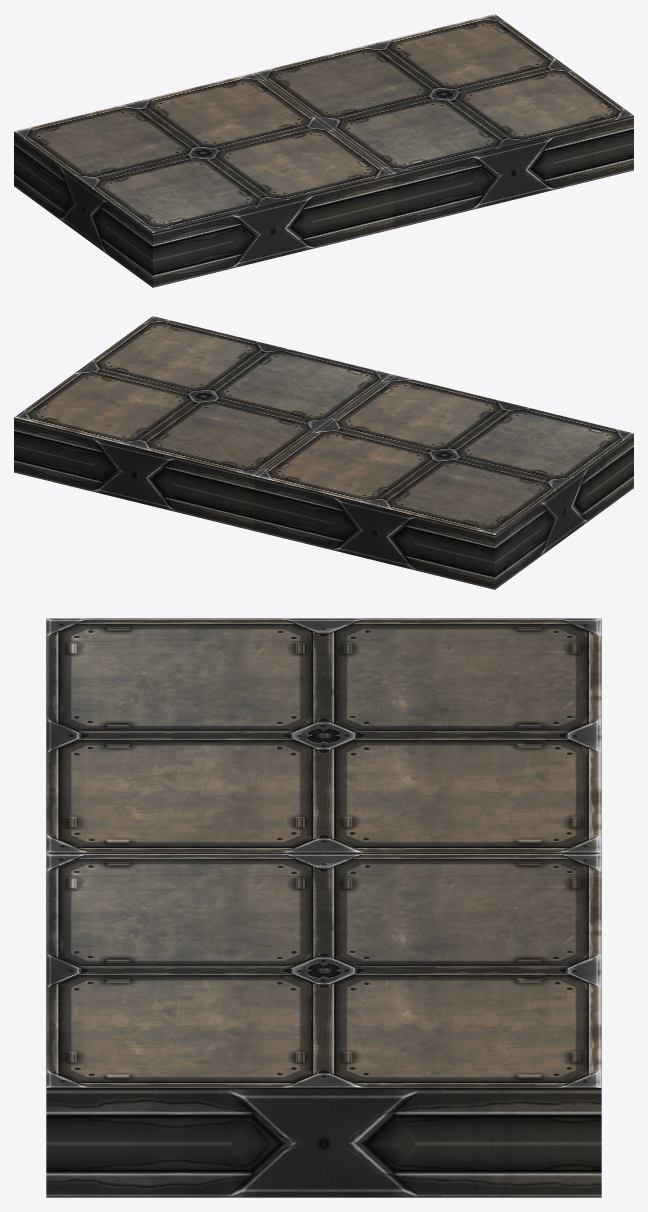
Rendered from mpr_floor_small_block.FBX.
3 renders of one model, top to bottom at view 1: azimuth 30°, elevation 25°; view 2: azimuth 150°, elevation 25°; view 3: azimuth 270°, elevation 25°, orthographic. The views are drawn at different scales.
Visible parts, largest first — view 1: mpr_floor_small_block; view 2: mpr_floor_small_block; view 3: mpr_floor_small_block.
Boxes of the visible parts, x1=… form: mpr_floor_small_block: x1=14, y1=14, x2=633, y2=287; mpr_floor_small_block: x1=14, y1=316, x2=633, y2=589; mpr_floor_small_block: x1=46, y1=618, x2=601, y2=1197.
Bounding box in the file's own units: 736 × 80 × 368.
1 material, 1 textured.
